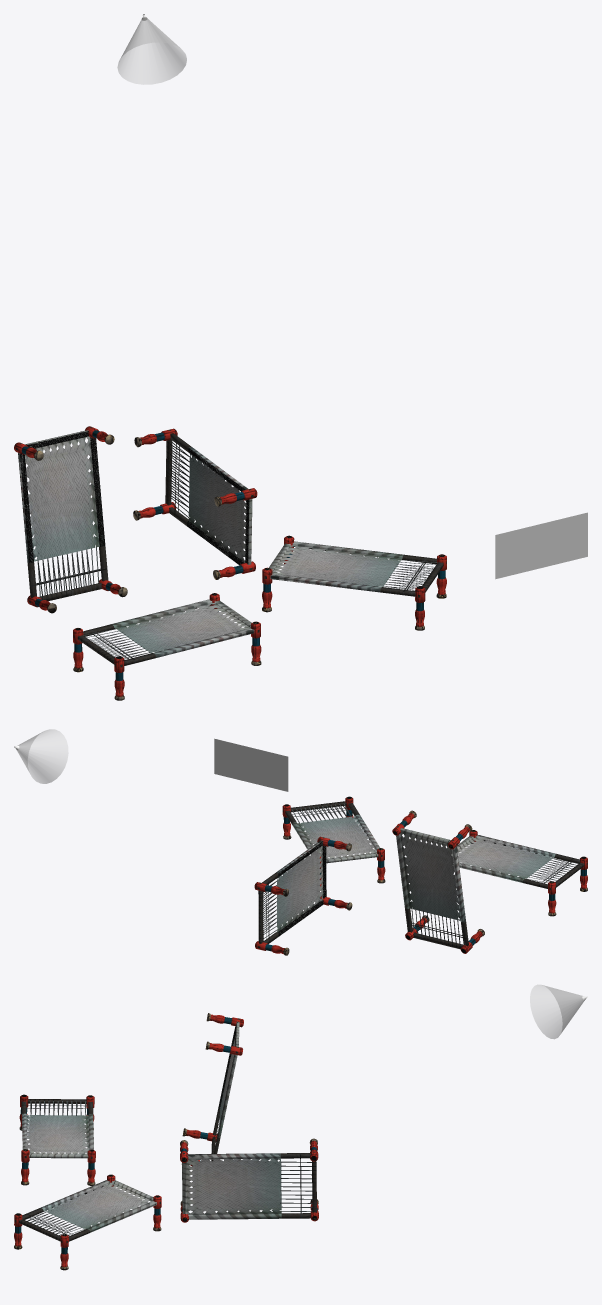
3 renders of one model, top to bottom at view 1: azimuth 30°, elevation 25°; view 2: azimuth 150°, elevation 25°; view 3: azimuth 270°, elevation 25°, orthographic. The views are drawn at different scales.
Visible parts, largest first — view 1: Component_2 (×7), image_0, group_0; view 2: Component_2 (×9), image_0, group_0; view 3: Component_2 (×7), group_0.
Part boxes in pixels (x1,y1,x2,y2): Component_2 (×7): [18, 430, 403, 657]; image_0: [495, 512, 587, 579]; group_0: [117, 17, 186, 84]; Component_2 (×9): [258, 801, 584, 948]; image_0: [214, 738, 288, 791]; group_0: [16, 729, 68, 783]; Component_2 (×7): [19, 1021, 316, 1241]; group_0: [530, 984, 584, 1038].
Size of the model in its own units: 312 by 403 by 218.
